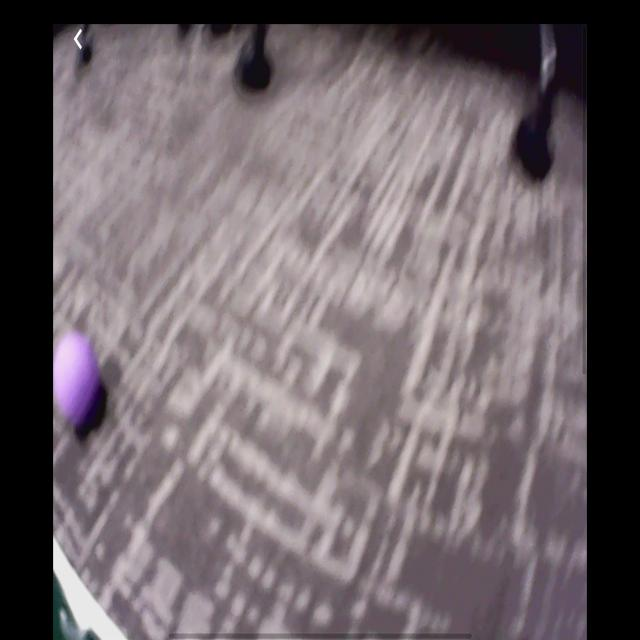ball: (54, 330, 108, 441)
